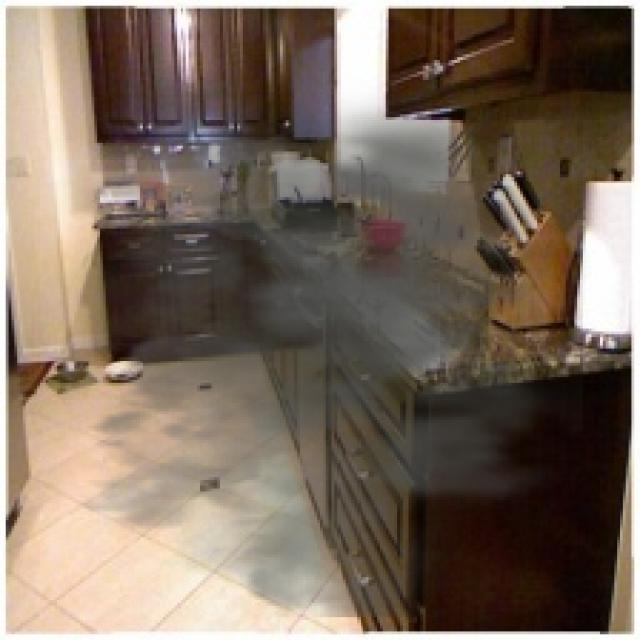smoke: (28, 77, 583, 617)
